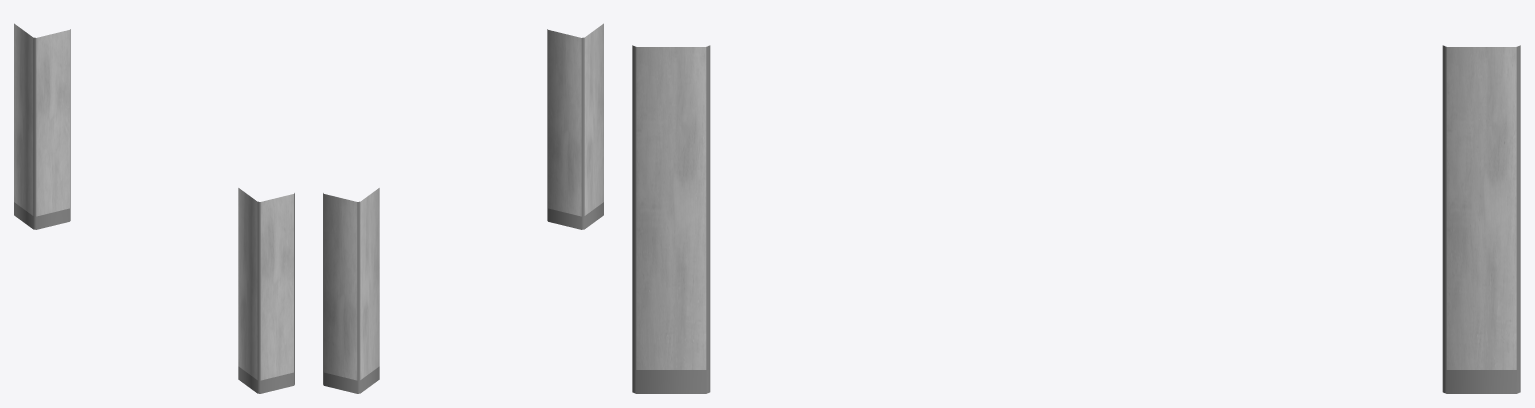
Rendered from AMB_KAKU_CHU.glb.
3 renders of one model, left to right at view 1: azimuth 30°, elevation 25°; view 2: azimuth 150°, elevation 25°; view 3: azimuth 270°, elevation 25°, orthographic. The views are drawn at different scales.
Visible parts, largest first — view 1: J00, J04; view 2: J04, J00; view 3: J04, J00.
Boxes of the visible parts, x1,y1,x2,y2 form: J00: (14,23,70,229); J04: (238,188,294,393); J04: (547,23,603,229); J00: (323,188,379,393); J04: (632,45,710,393); J00: (1442,45,1520,393).
Bounding box in the file's own units: 2.4 × 11.82 × 27.4.
4 materials, 4 textured.
